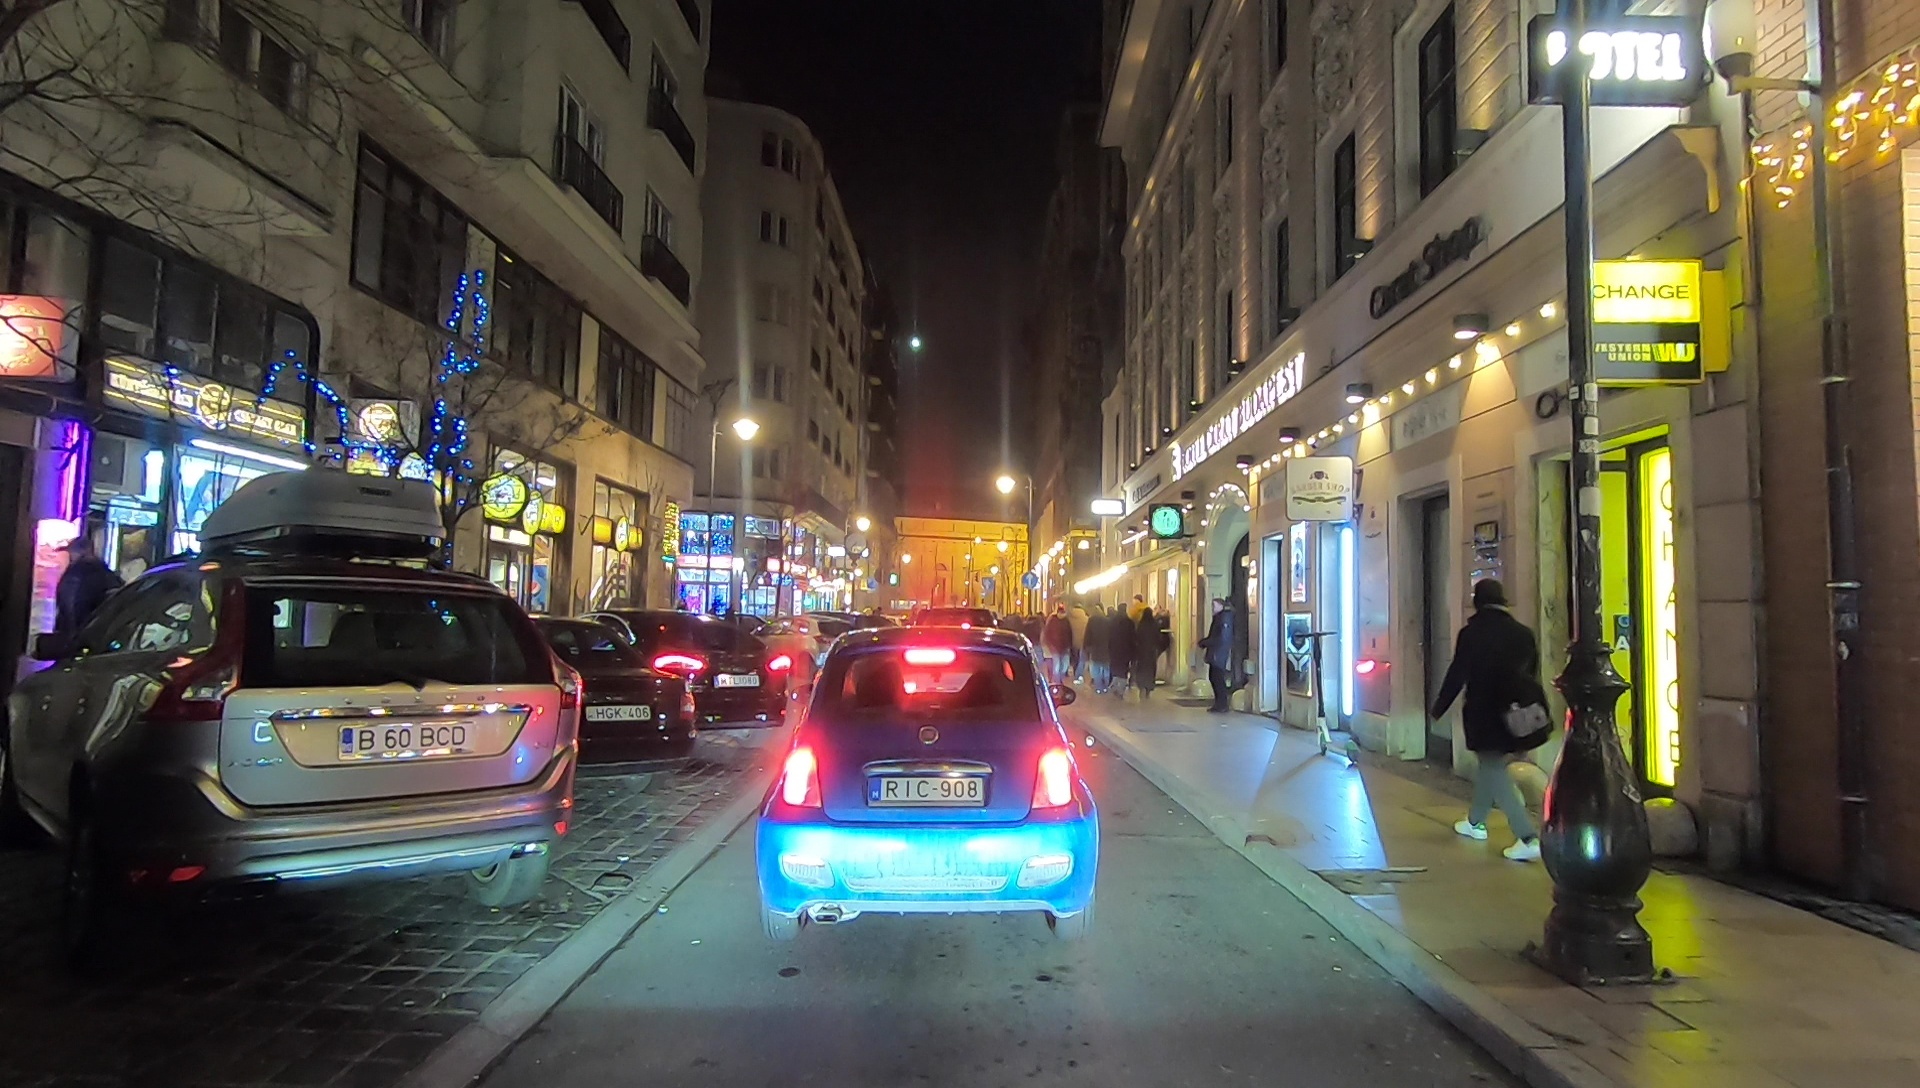person: (1437, 583, 1549, 866), (52, 541, 113, 702), (1199, 595, 1235, 716), (1041, 607, 1073, 683), (1085, 606, 1114, 693), (1137, 607, 1162, 696), (1128, 592, 1149, 690), (1111, 602, 1132, 693), (1068, 603, 1087, 675)
